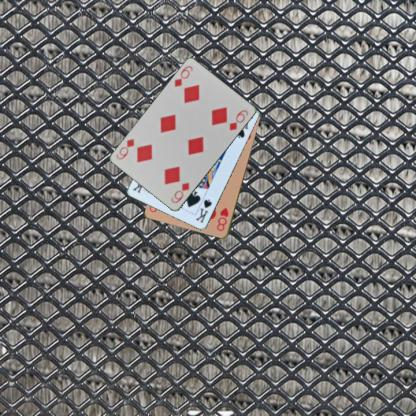6d: (168, 180, 191, 204), (172, 63, 194, 88)
8h: (214, 205, 230, 232)
Ks: (193, 197, 213, 224)
